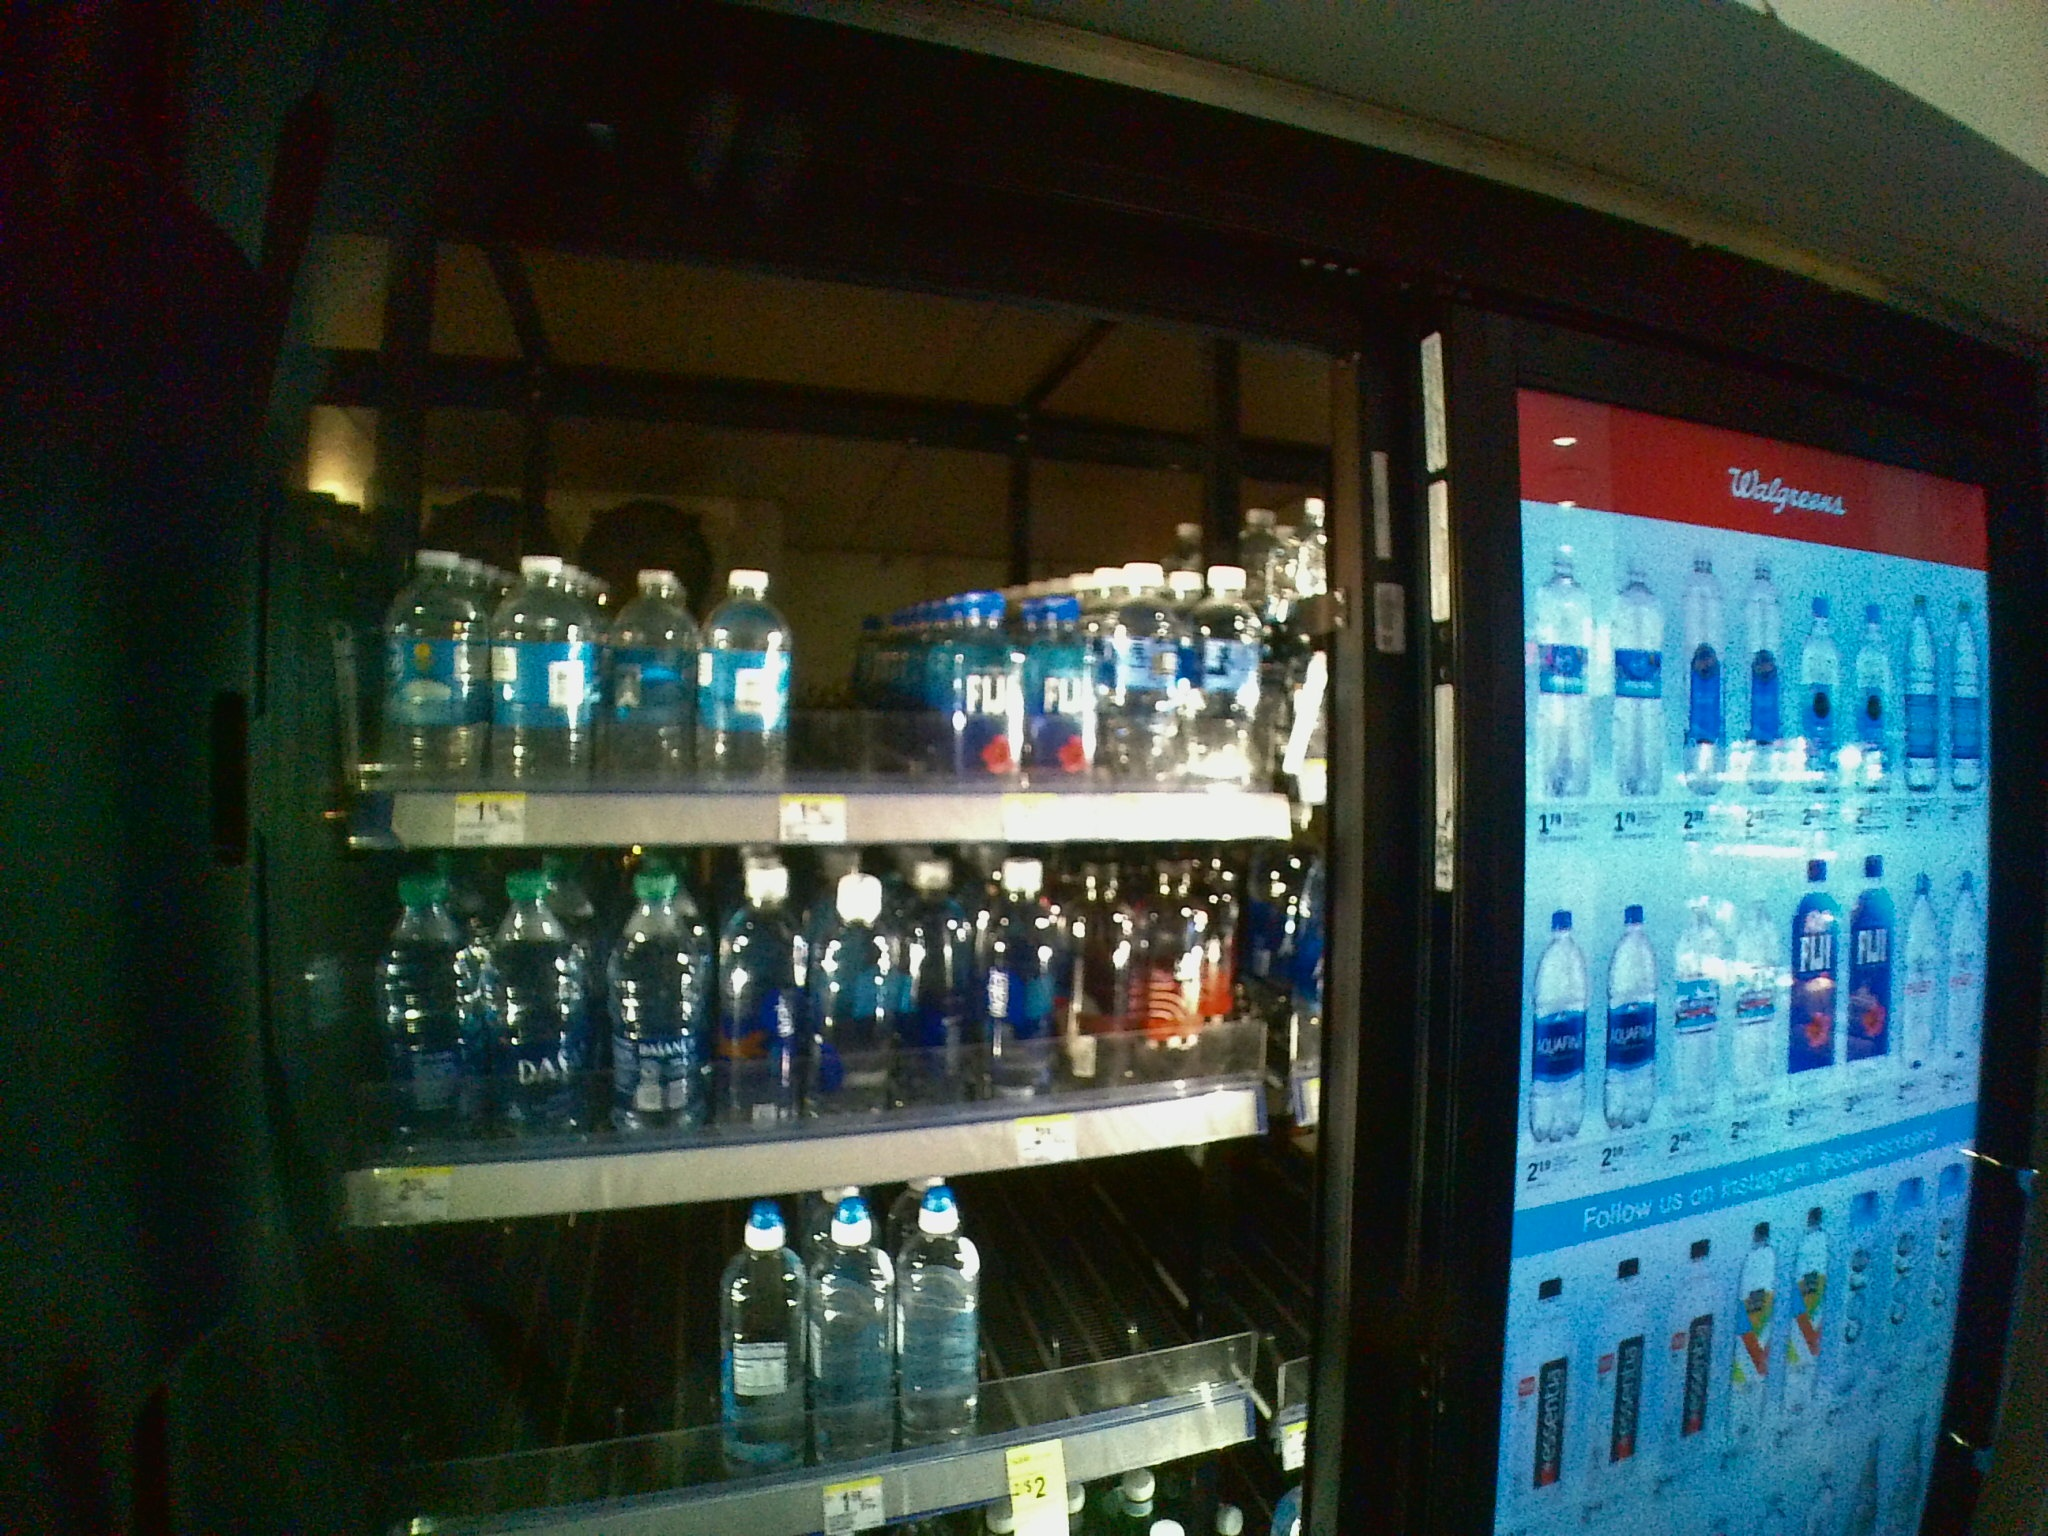shelf: (327, 394, 1350, 854), (326, 847, 1353, 1226)
